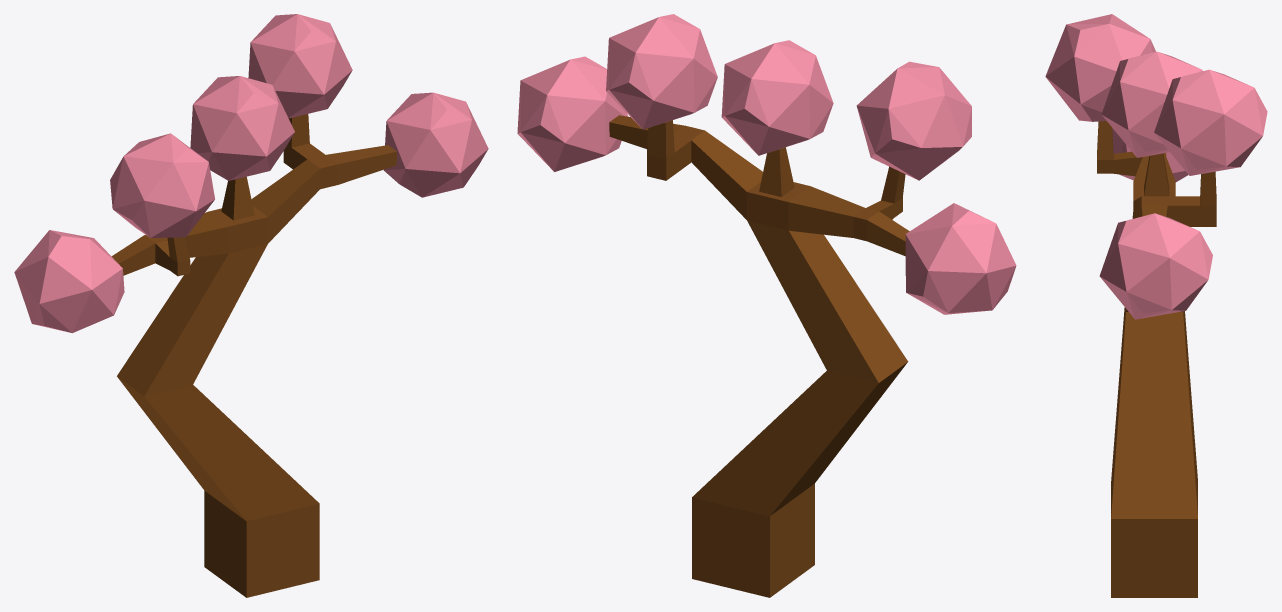
Rendered from tree.obj.
3 views of the same model, side by side, from view 1: azimuth 30°, elevation 25°; view 2: azimuth 150°, elevation 25°; view 3: azimuth 270°, elevation 25° (orthographic). The views are drawn at different scales.
Size of the model in its own units: 11.72 by 13.14 by 4.89.
